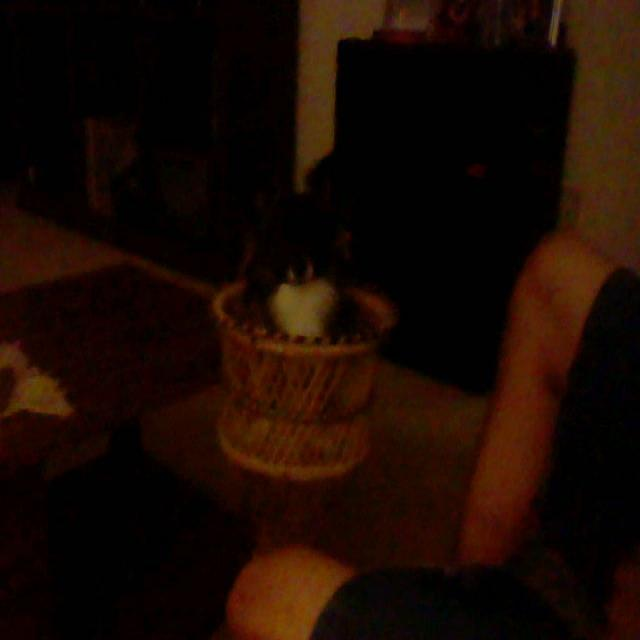Cat: (237, 143, 360, 346)
Table: (181, 271, 400, 493)
chair: (334, 211, 640, 640)
